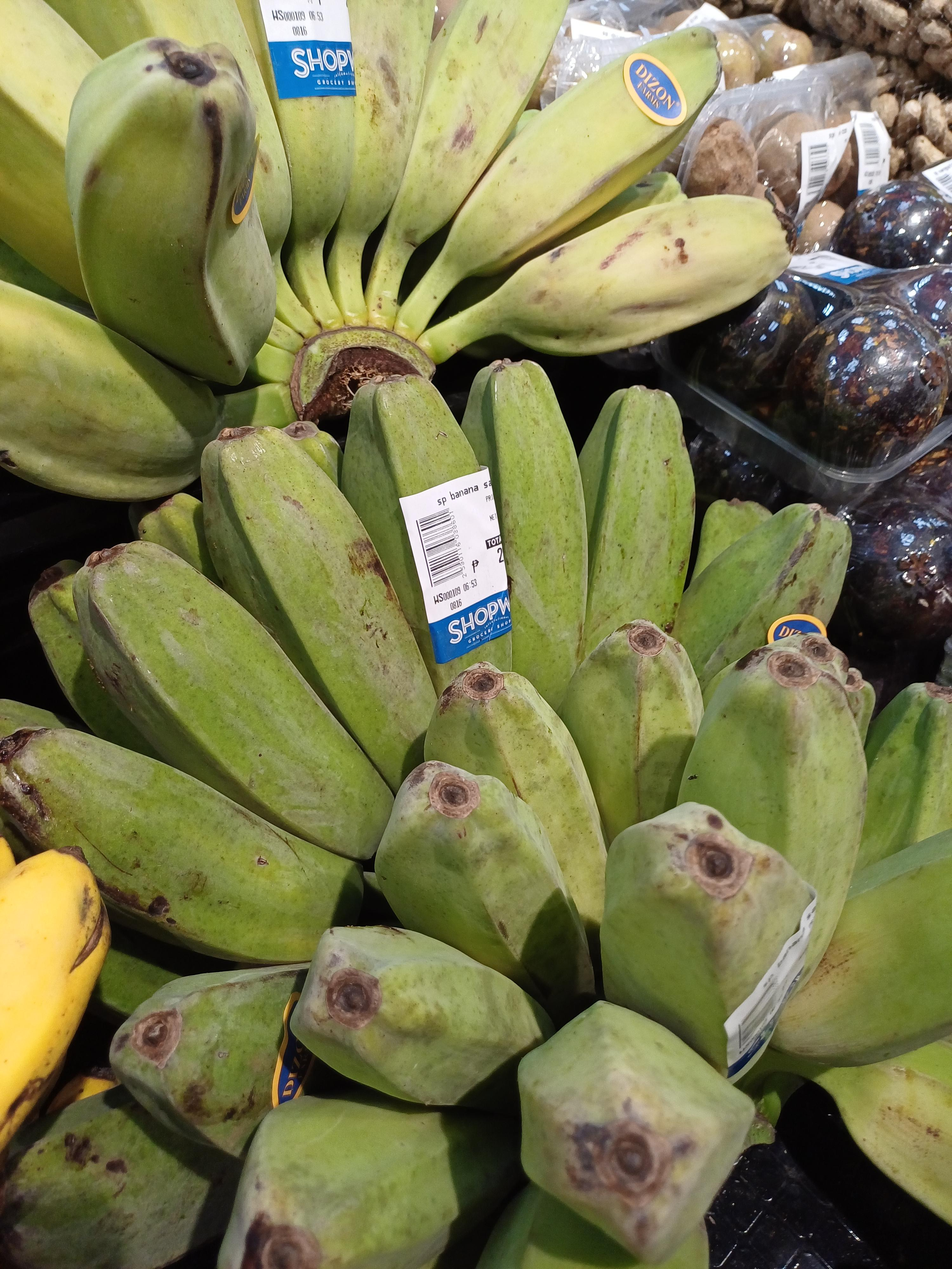underripe: (0, 358, 852, 1269), (218, 620, 952, 1269), (0, 0, 795, 503)
